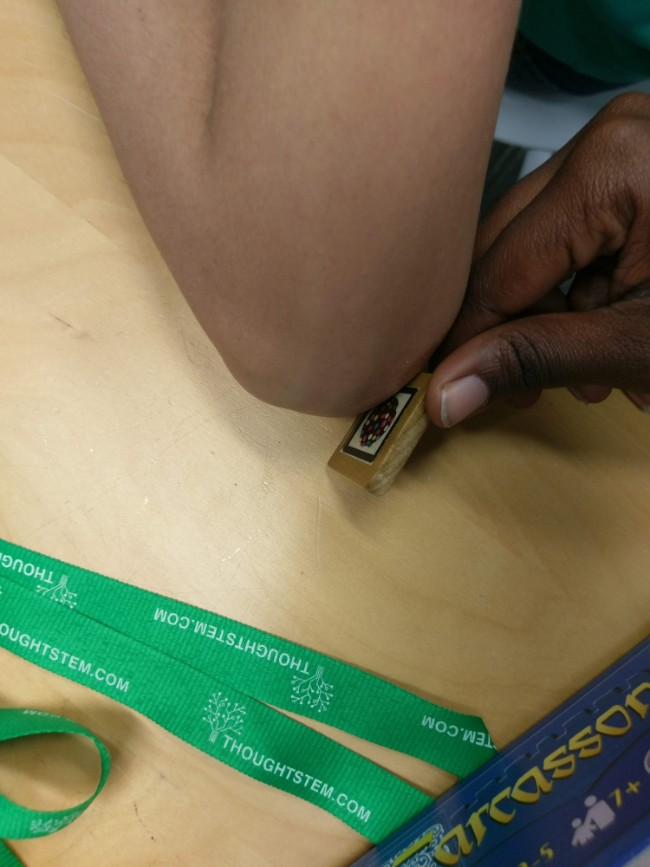cookie: (309, 382, 423, 468)
